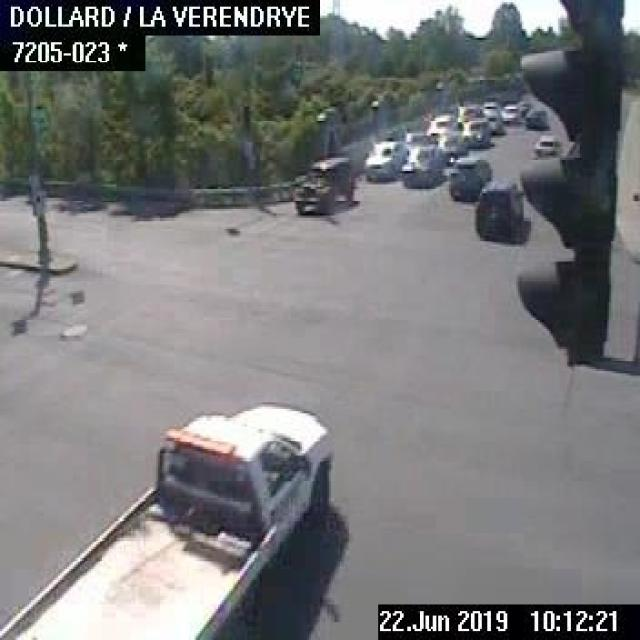vehicle: (0, 400, 335, 638), (289, 151, 356, 213), (473, 178, 522, 240), (402, 142, 444, 190), (448, 155, 490, 202), (363, 137, 399, 181), (426, 115, 460, 143), (462, 117, 489, 148), (534, 132, 560, 158), (524, 106, 550, 130), (480, 98, 502, 124), (500, 102, 521, 125)
